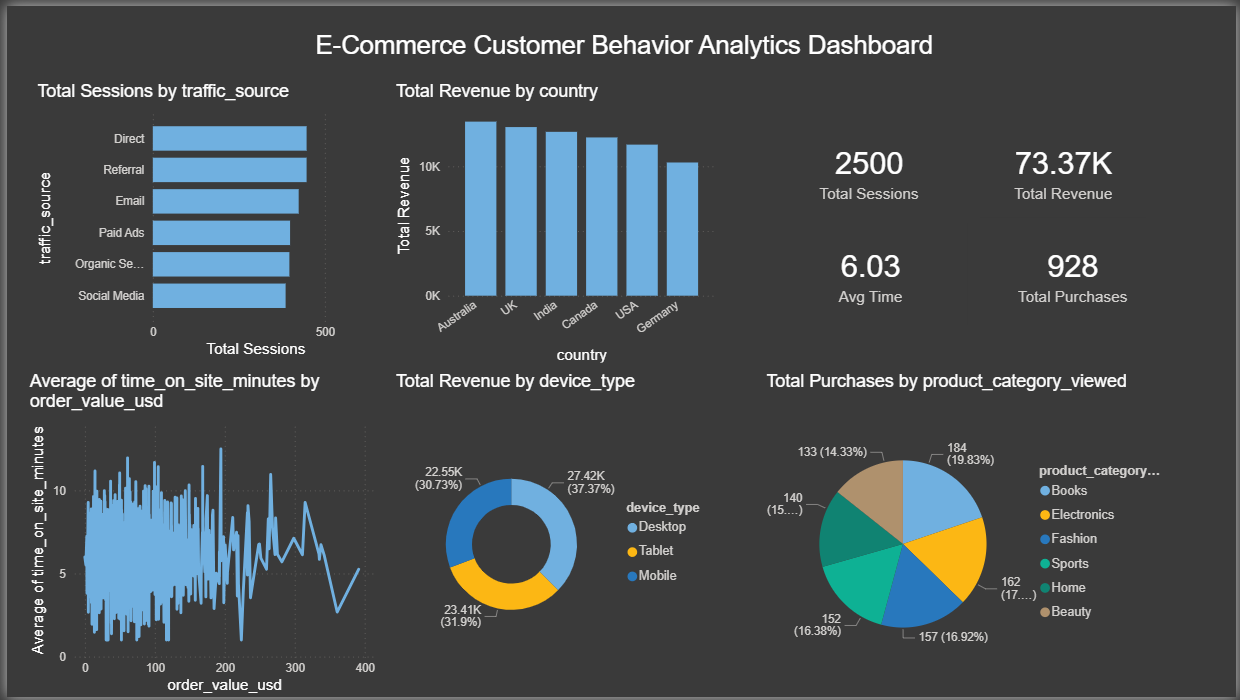

The dashboard page shown, as its layout file describes it:
{"tool":"powerbi","page":{"name":"Page 1","canvas":[1280,720],"ordinal":0},"visuals":[{"type":"clusteredBarChart","fields":{"Category":["ecommerce_user_behavior_sessions.traffic_source"],"Y":["ecommerce_user_behavior_sessions.Total Sessions"]},"box":[26,78,356,292],"z":0},{"type":"donutChart","fields":{"Category":["ecommerce_user_behavior_sessions.device_type"],"Y":["ecommerce_user_behavior_sessions.Total Revenue"]},"box":[400,379.7,344.1,340.7],"z":1000},{"type":"clusteredColumnChart","fields":{"Category":["ecommerce_user_behavior_sessions.country"],"Y":["ecommerce_user_behavior_sessions.Total Revenue"]},"box":[400,78,342.4,298.3],"z":2000},{"type":"pieChart","fields":{"Category":["ecommerce_user_behavior_sessions.product_category_viewed"],"Y":["ecommerce_user_behavior_sessions.Total Purchases"]},"box":[786,380,426,340],"z":3000},{"type":"lineChart","fields":{"Category":["ecommerce_user_behavior_sessions.order_value_usd"],"Y":["Avg(ecommerce_user_behavior_sessions.time_on_site_minutes)"]},"box":[18.6,379.7,369.5,340.7],"z":4000},{"type":"card","fields":{"Values":["ecommerce_user_behavior_sessions.Total Purchases"]},"box":[1013.6,227.1,191.5,105.1],"z":5000},{"type":"card","fields":{"Values":["ecommerce_user_behavior_sessions.Total Sessions"]},"box":[796.6,115.3,201.7,111.9],"z":6000},{"type":"card","fields":{"Values":["ecommerce_user_behavior_sessions.Total Revenue"]},"box":[1013.6,115.3,172.9,108.5],"z":7000},{"type":"card","fields":{"Values":["ecommerce_user_behavior_sessions.Avg Time"]},"box":[798.3,227.1,201.7,105.1],"z":8000},{"type":"textbox","box":[100,20,1086,40],"z":9000}]}

Visuals, with their boxes in screenshot pixels (x1, y1, x2, y2), scaled from the page's 1280x720 canvas onto the 1240x700 screenshot:
clusteredBarChart - ecommerce_user_behavior_sessions.traffic_source x ecommerce_user_behavior_sessions.Total Sessions: BBox(25, 76, 370, 360)
donutChart - ecommerce_user_behavior_sessions.device_type x ecommerce_user_behavior_sessions.Total Revenue: BBox(388, 369, 721, 699)
clusteredColumnChart - ecommerce_user_behavior_sessions.country x ecommerce_user_behavior_sessions.Total Revenue: BBox(388, 76, 719, 366)
pieChart - ecommerce_user_behavior_sessions.product_category_viewed x ecommerce_user_behavior_sessions.Total Purchases: BBox(761, 369, 1174, 699)
lineChart - ecommerce_user_behavior_sessions.order_value_usd x Avg(ecommerce_user_behavior_sessions.time_on_site_minutes): BBox(18, 369, 376, 699)
card - ecommerce_user_behavior_sessions.Total Purchases: BBox(982, 221, 1167, 323)
card - ecommerce_user_behavior_sessions.Total Sessions: BBox(772, 112, 967, 221)
card - ecommerce_user_behavior_sessions.Total Revenue: BBox(982, 112, 1149, 218)
card - ecommerce_user_behavior_sessions.Avg Time: BBox(773, 221, 969, 323)
textbox: BBox(97, 19, 1149, 58)
